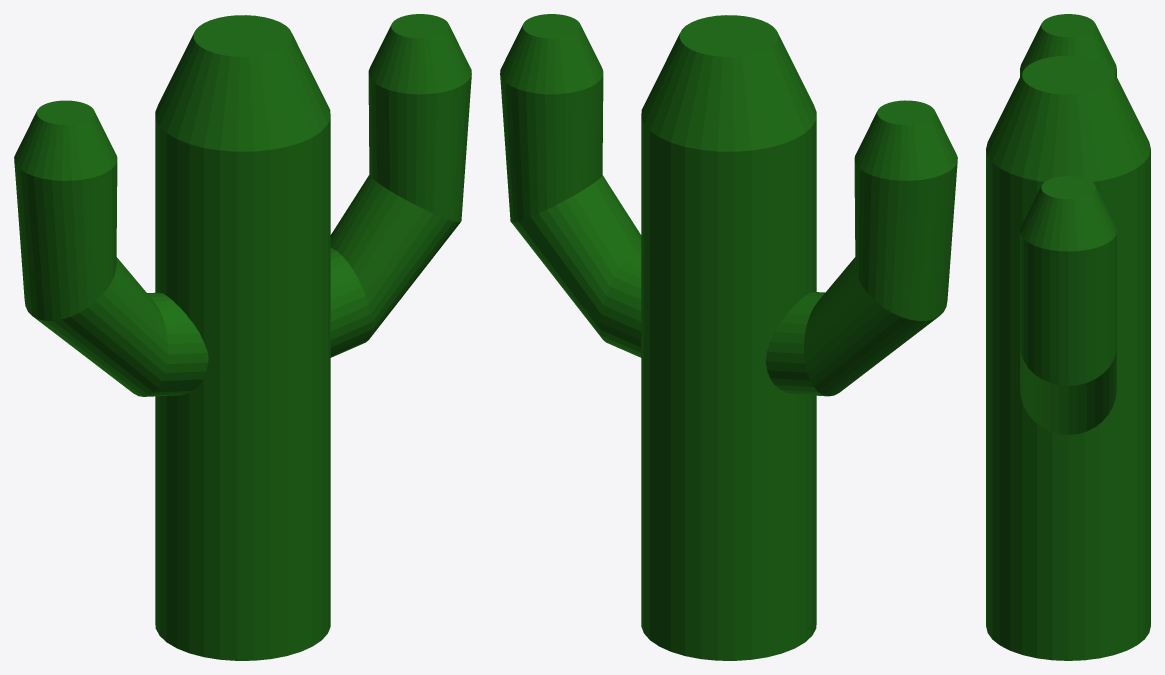
3 views of the same model, side by side, from view 1: azimuth 30°, elevation 25°; view 2: azimuth 150°, elevation 25°; view 3: azimuth 270°, elevation 25° (orthographic). The views are drawn at different scales.
Parts seen in each view (by area): view 1: Cylinder.002; view 2: Cylinder.002; view 3: Cylinder.002.
Boxes of the visible parts, x1,y1,x2,y2 form: Cylinder.002: (14, 14, 471, 660); Cylinder.002: (500, 14, 957, 660); Cylinder.002: (986, 14, 1150, 660).
Size of the model in its own units: 183 by 231 by 62.62.
